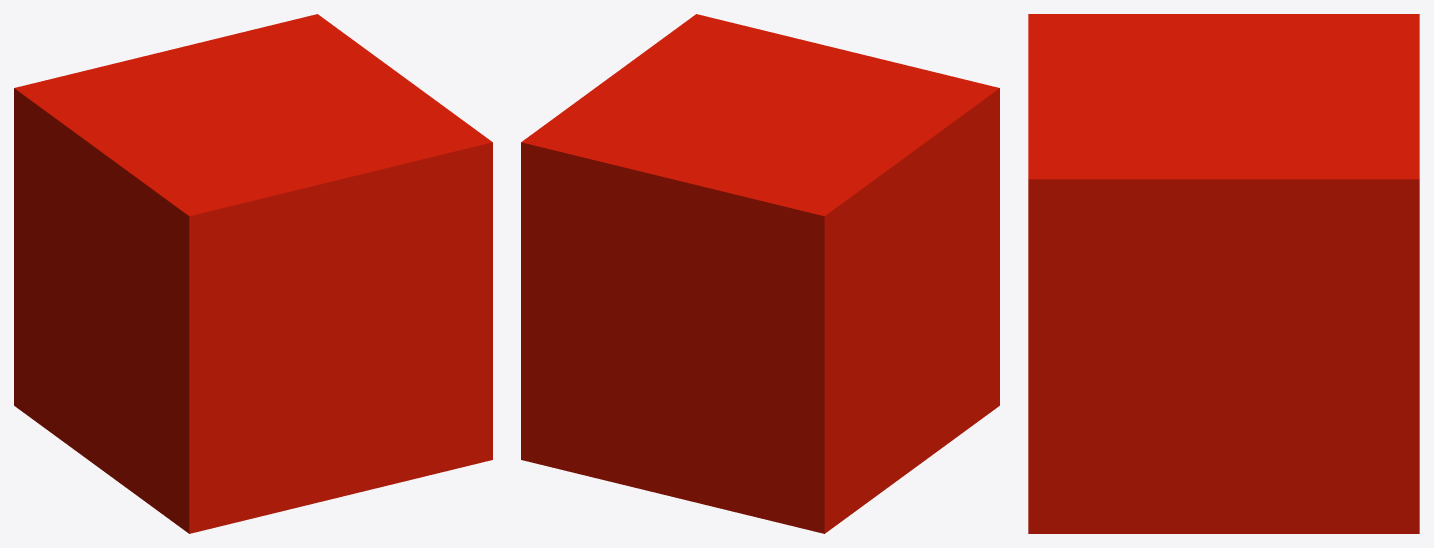
File: sss.glb
The picture shows the model from 3 angles, left to right: view 1: azimuth 30°, elevation 25°; view 2: azimuth 150°, elevation 25°; view 3: azimuth 270°, elevation 25°; orthographic projection. The views are drawn at different scales.
Visible parts, largest first — view 1: Cube.001; view 2: Cube.001; view 3: Cube.001.
Part boxes in pixels (bbox=[...]): Cube.001: bbox=[14, 14, 492, 533]; Cube.001: bbox=[521, 14, 999, 533]; Cube.001: bbox=[1028, 14, 1419, 533].
Size of the model in its own units: 2.59 by 2.59 by 2.59.
